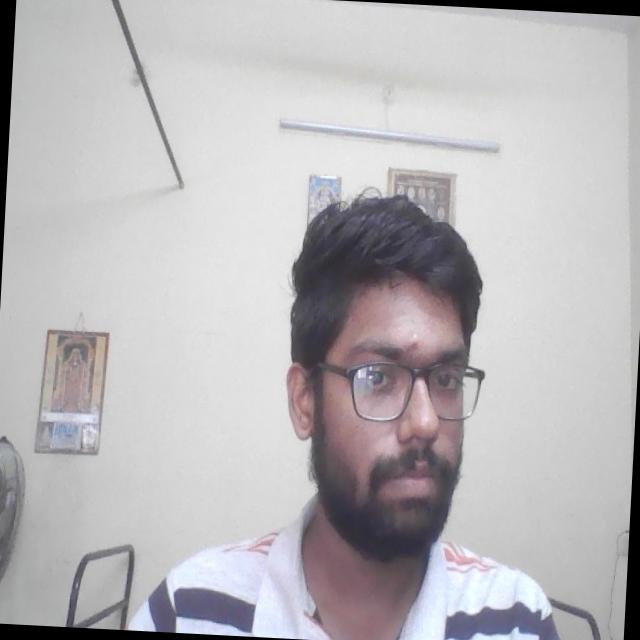Focused: (334, 307, 490, 519)
